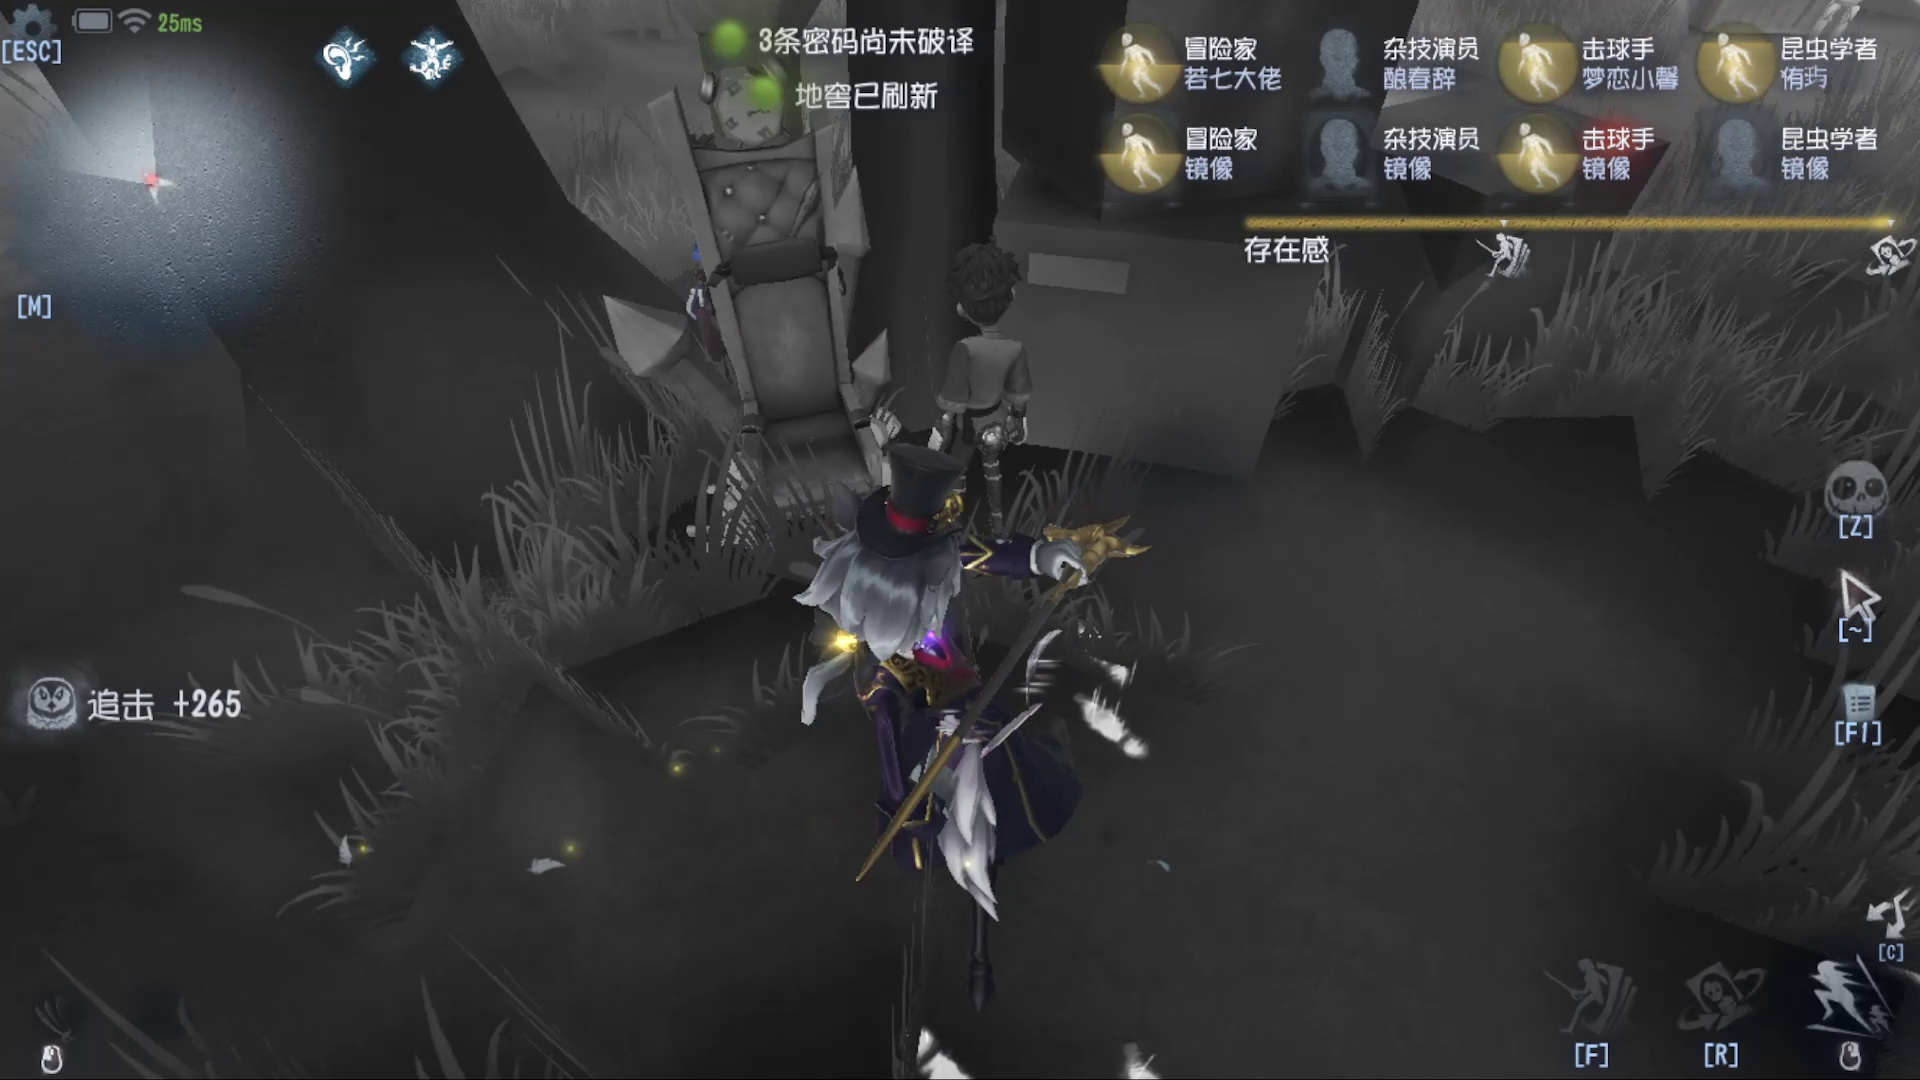求生者: (922, 258, 1050, 531)
